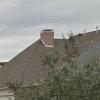Chimney: (30, 24, 61, 51)
